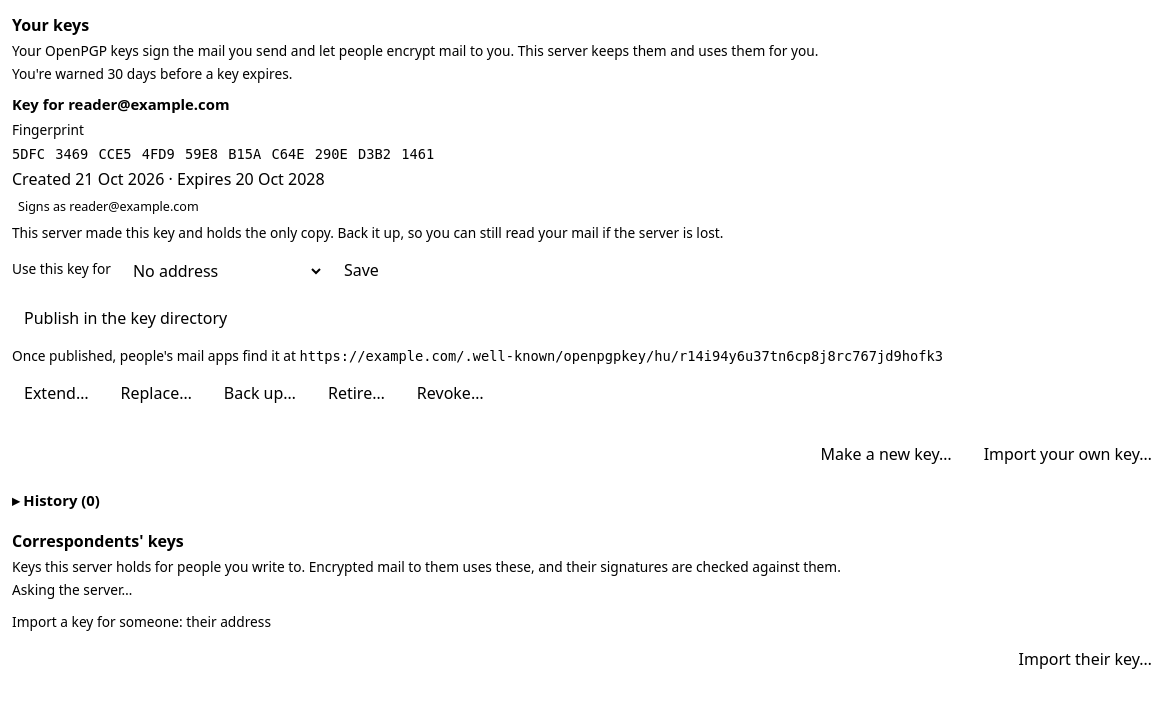
Test case: your keys › a refused change is a sentence, not a code
This screenshot has width=1176, height=719.
Select "No address" in the dropdown labelled "Use this key for" at [221, 271], box left=119, top=251, right=324, bottom=291
Click the button "Save".
click(361, 271)  # box left=332, top=252, right=391, bottom=290
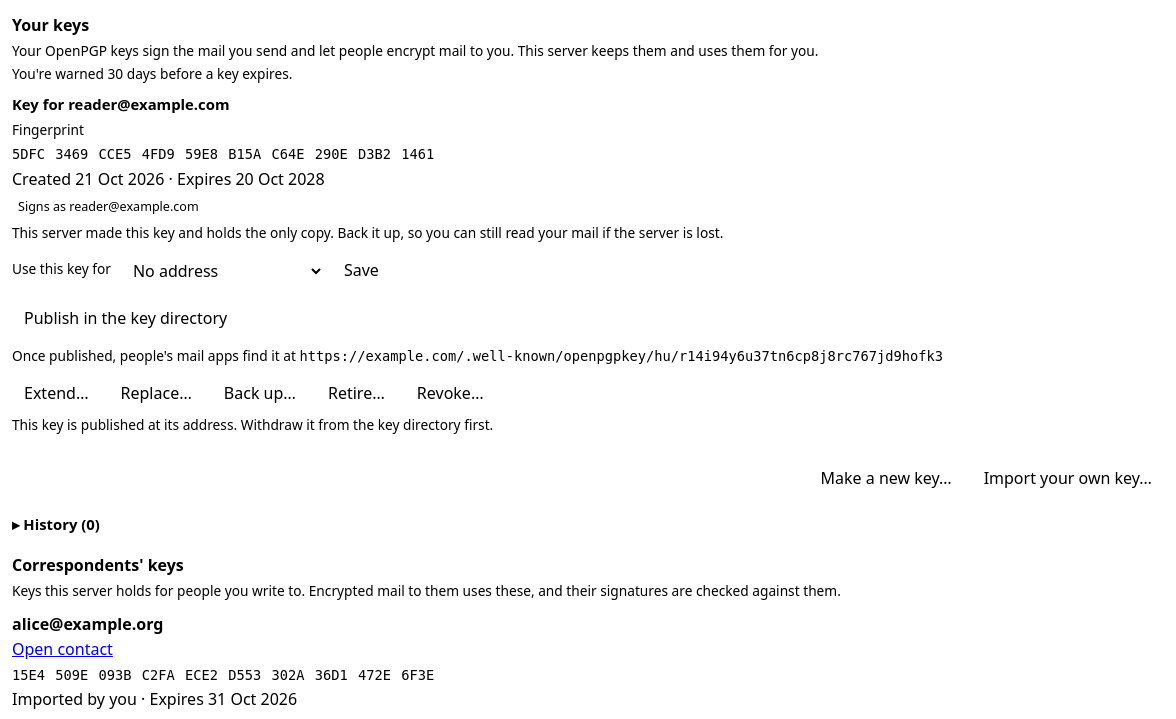
Expected: the message reads "This key is published at its address. Withdraw it from the key directory first.", left=12, top=416, right=493, bottom=434
